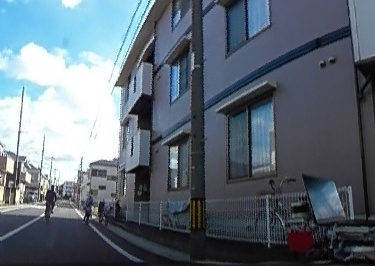person: (43, 182, 56, 219), (83, 189, 94, 219)
